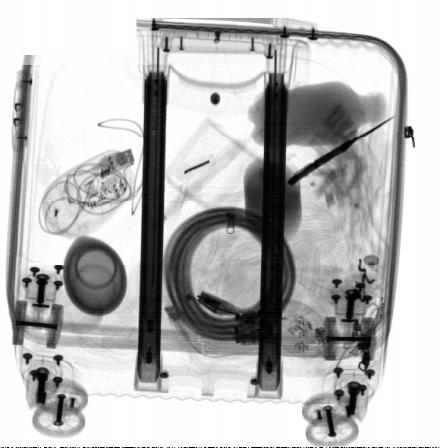Knife: (287, 116, 395, 187)
